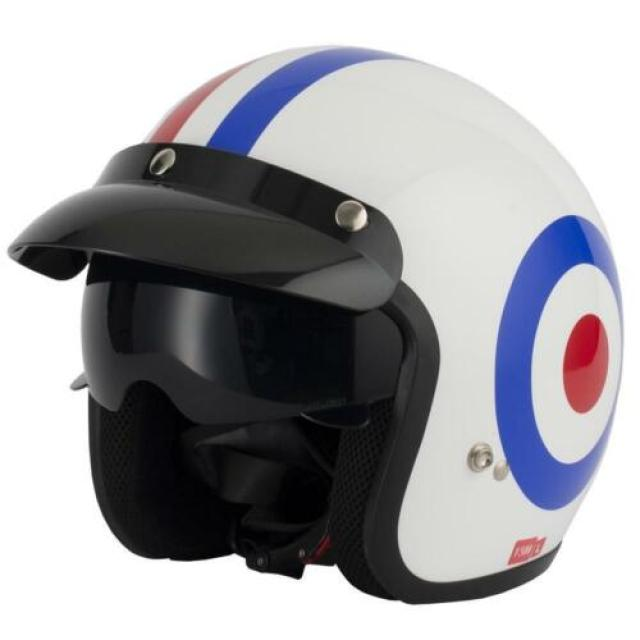Helm: (5, 38, 612, 610)
